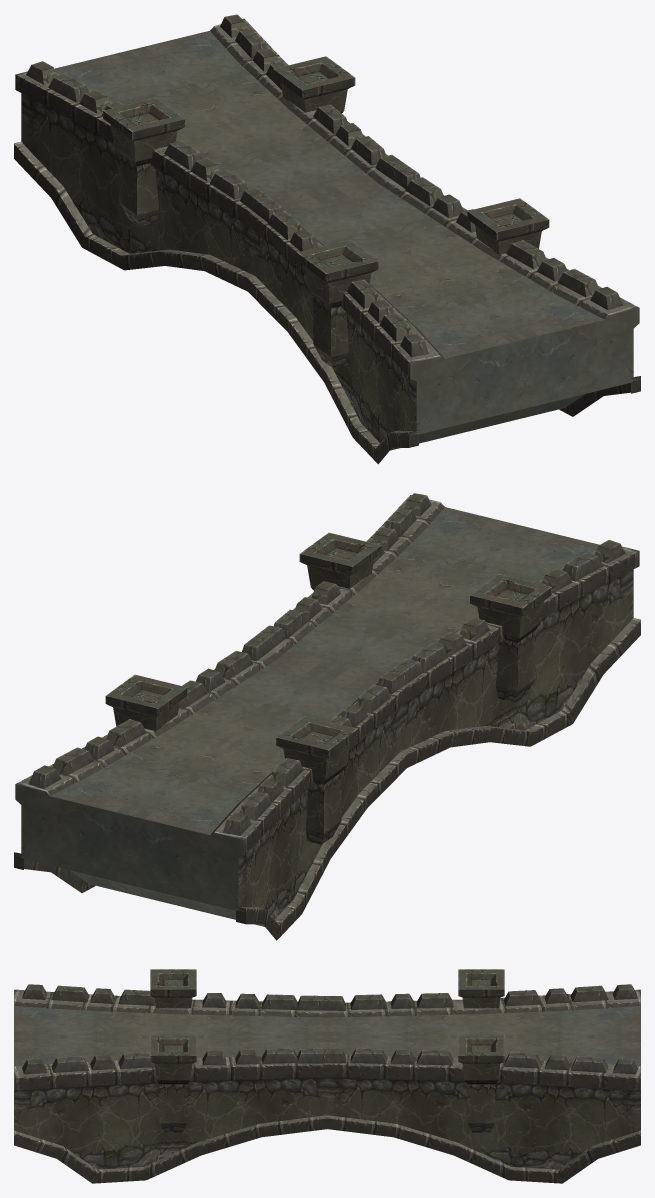
Rendered from F_lianjieqiao002.fbx.
3 renders of one model, top to bottom at view 1: azimuth 30°, elevation 25°; view 2: azimuth 150°, elevation 25°; view 3: azimuth 270°, elevation 25°, orthographic. The views are drawn at different scales.
Parts seen in each view (by area): view 1: F_lianjieqiao002; view 2: F_lianjieqiao002; view 3: F_lianjieqiao002.
Part boxes in pixels (bbox=[...]): F_lianjieqiao002: bbox=[14, 14, 640, 464]; F_lianjieqiao002: bbox=[14, 493, 640, 940]; F_lianjieqiao002: bbox=[14, 969, 640, 1183].
Bounding box in the file's own units: 511 × 353 × 1507.
